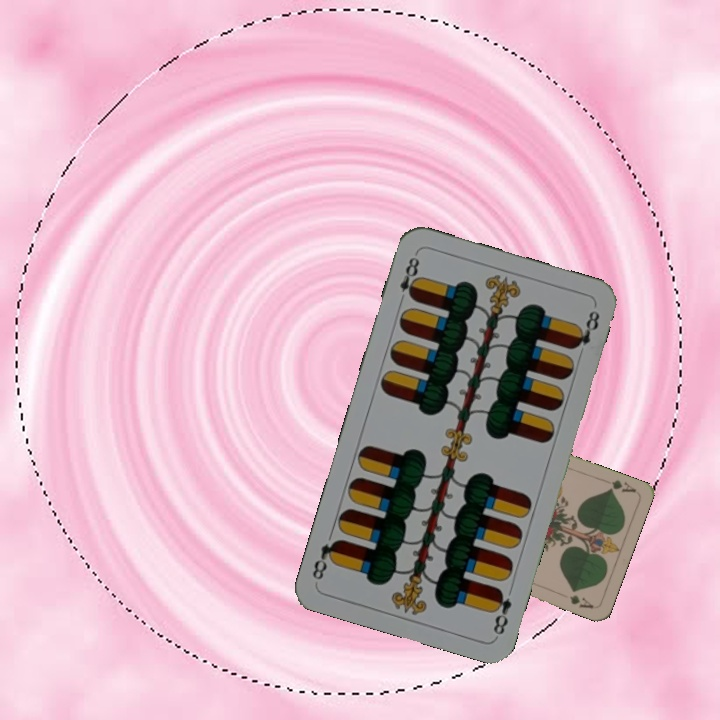E8: (395, 252, 423, 307), (488, 584, 514, 638)
GA: (604, 476, 639, 495)
